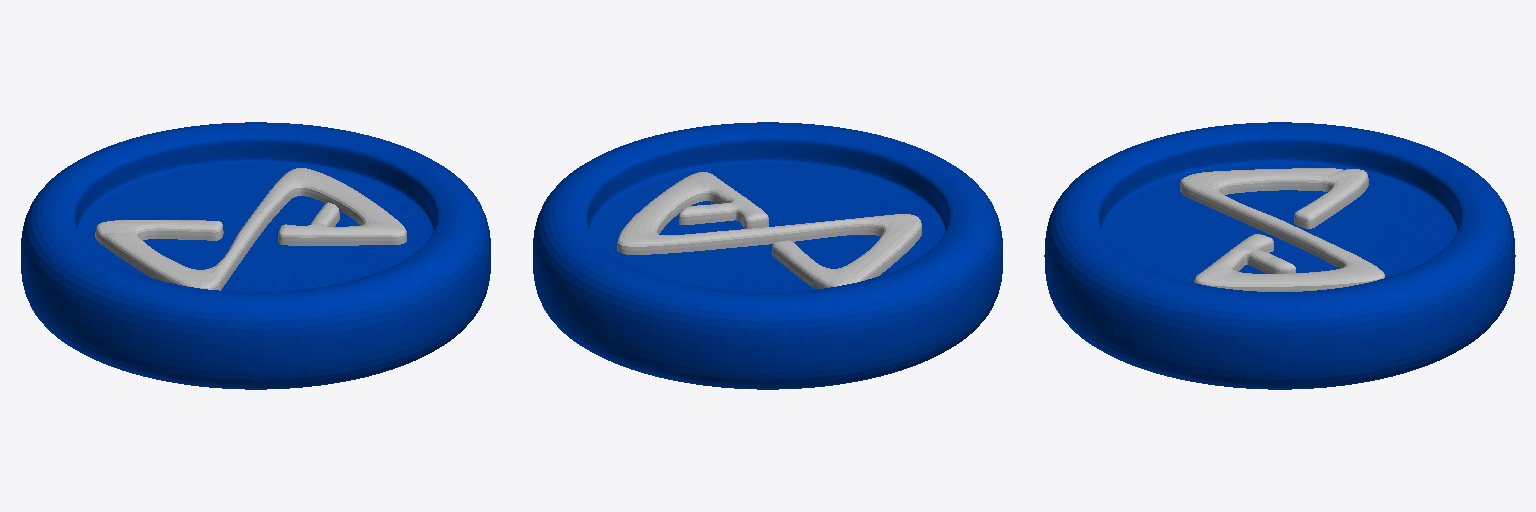
3 renders of one model, left to right at view 1: azimuth 30°, elevation 25°; view 2: azimuth 150°, elevation 25°; view 3: azimuth 270°, elevation 25°, orthographic.
Visible parts, largest first — view 1: Axie_Circle.001; view 2: Axie_Circle.001; view 3: Axie_Circle.001.
Part boxes in pixels (x1,y1,x2,y2): Axie_Circle.001: (21, 122, 490, 389); Axie_Circle.001: (533, 122, 1002, 389); Axie_Circle.001: (1044, 122, 1515, 389).
Size of the model in its own units: 3.11 by 0.6551 by 3.11.
Materials: 1 (1 with a texture image).